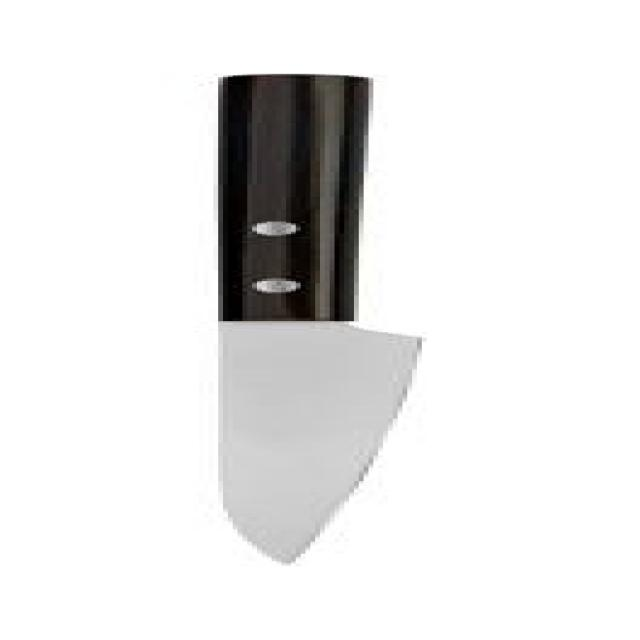knife: (164, 65, 440, 587)
